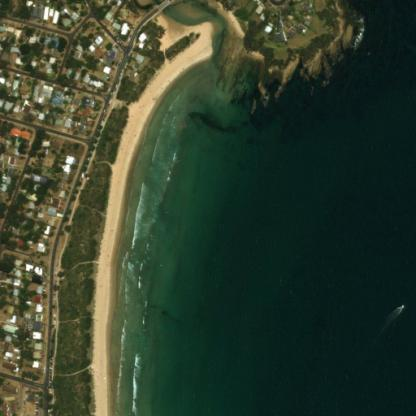ship: (394, 299, 408, 314)
